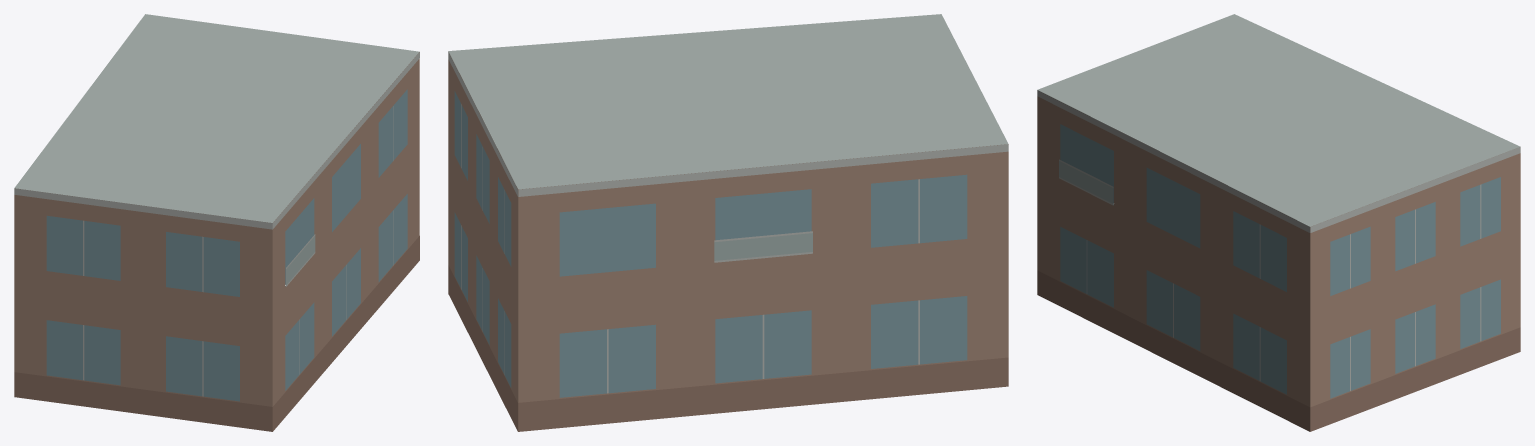
The model's file is survey-upis-32625114.glb.
3 renders of one model, left to right at view 1: azimuth 30°, elevation 25°; view 2: azimuth 150°, elevation 25°; view 3: azimuth 270°, elevation 25°, orthographic. The views are drawn at different scales.
Visible parts, largest first — view 1: survey-upis-32625114.tmp; view 2: survey-upis-32625114.tmp; view 3: survey-upis-32625114.tmp.
Boxes of the visible parts, x1=… form: survey-upis-32625114.tmp: x1=14, y1=14, x2=419, y2=431; survey-upis-32625114.tmp: x1=448, y1=14, x2=1008, y2=431; survey-upis-32625114.tmp: x1=1037, y1=14, x2=1520, y2=431.
Bounding box in the file's own units: 17.37 × 7.8 × 16.67.
